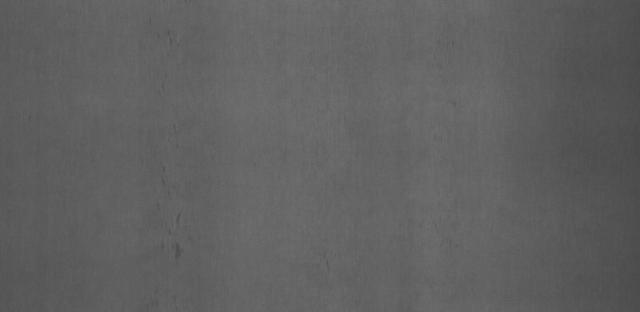silk_spot: (129, 180, 213, 279)
